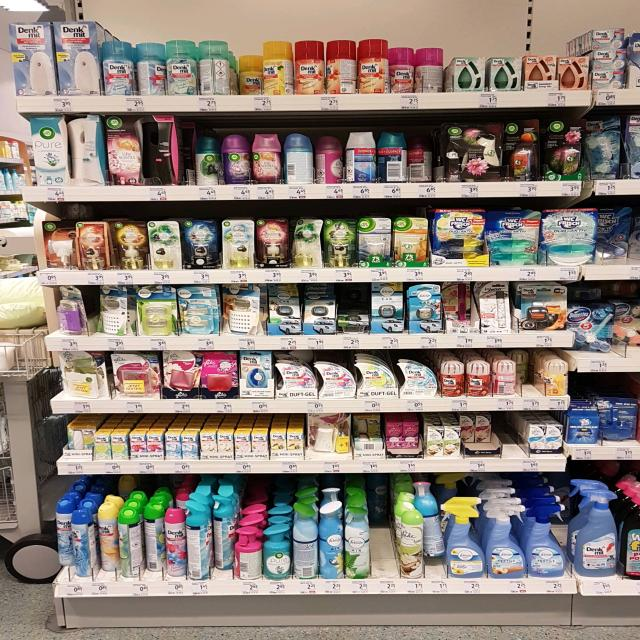unorganised: (53, 350, 112, 401), (291, 503, 318, 580), (570, 309, 613, 357), (183, 513, 212, 582), (198, 39, 232, 97), (68, 508, 95, 581), (221, 285, 260, 335), (421, 480, 443, 565), (97, 281, 129, 337), (325, 39, 358, 93), (135, 42, 168, 96), (345, 130, 377, 185), (313, 132, 345, 185), (282, 131, 313, 185), (55, 288, 89, 337), (376, 126, 406, 181), (214, 497, 236, 570), (460, 414, 499, 455), (293, 219, 327, 266), (117, 511, 140, 580), (95, 509, 118, 575), (413, 47, 446, 92), (234, 525, 262, 578), (441, 282, 476, 324), (142, 508, 164, 573), (597, 207, 633, 245), (386, 419, 423, 455), (407, 131, 433, 182), (391, 44, 415, 94), (54, 501, 71, 570), (355, 414, 384, 453), (617, 305, 638, 356), (238, 54, 264, 94), (66, 423, 94, 452), (516, 354, 532, 388)
